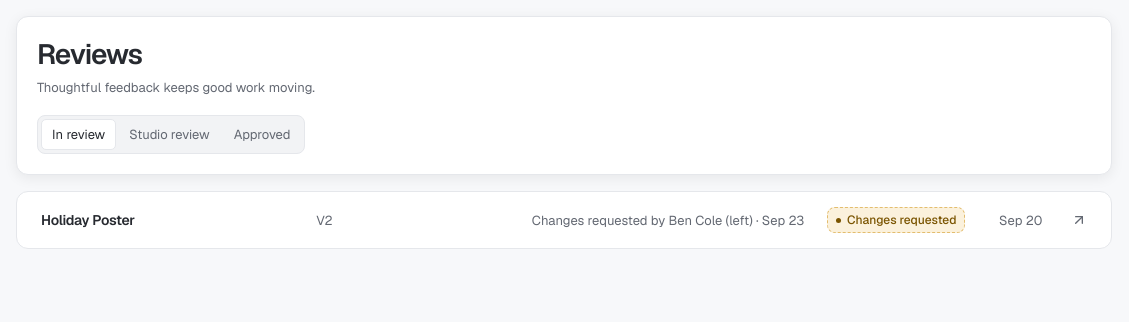
Scenario: ReviewsPage decisions › labels client versions V N and studio-review rounds by board and round
Click the button "Approved" at (262,135), box x1=223 y1=119 x2=301 y2=150
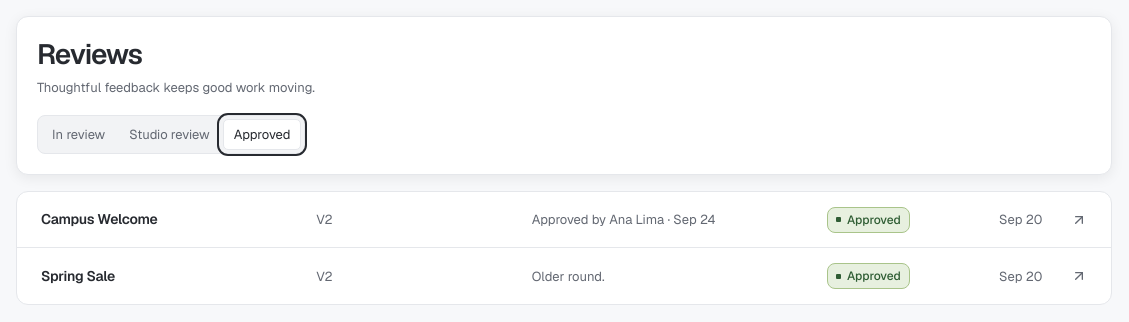
Click the button "Studio review" at (170,135), box x1=118 y1=119 x2=221 y2=150
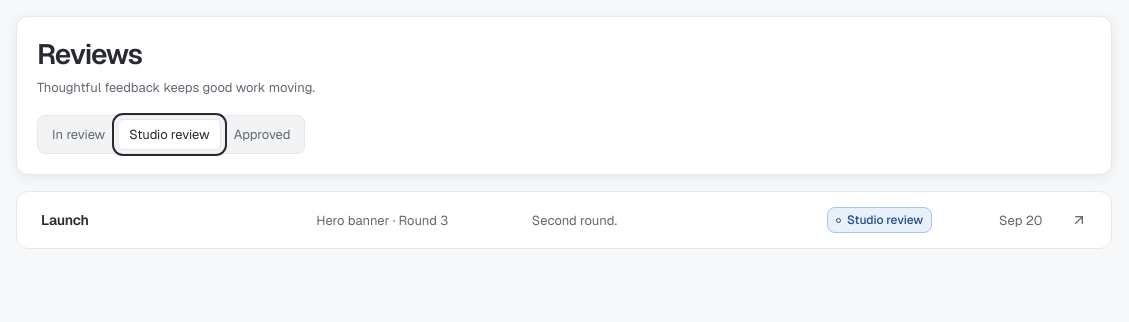
expect the text "Hero banner · Round 3" is shown: met, box x1=316 y1=212 x2=448 y2=228
